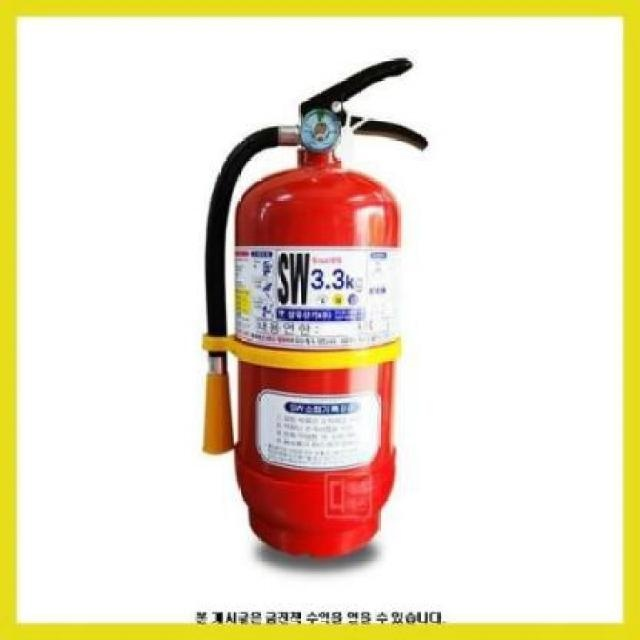fire extinguisher: (200, 58, 431, 559)
